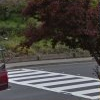crosswalk: (7, 67, 100, 100)
